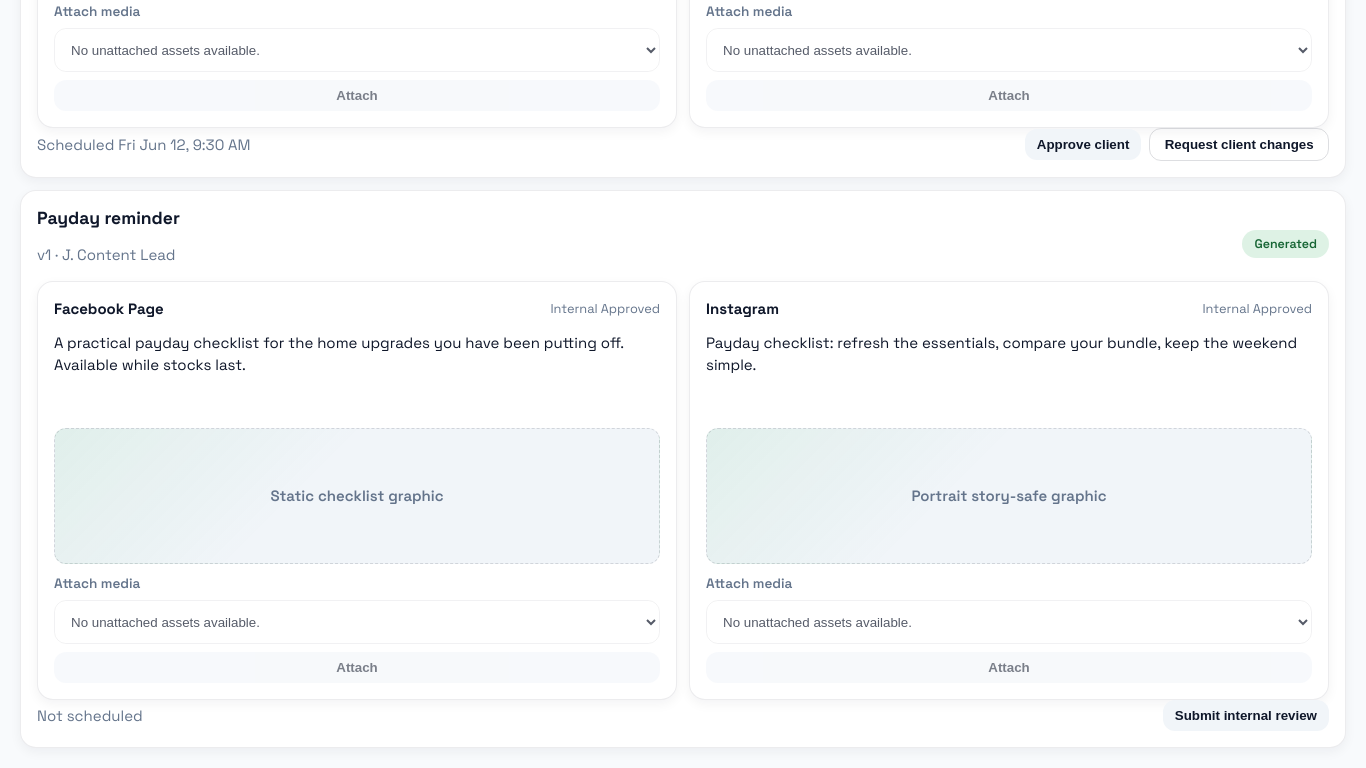
Test: ContentOpsPage › submits a generated draft for internal review
This screenshot has width=1366, height=768.
(page scrolled)
Click the button "Submit internal review". click: (1246, 716)
box: x1=1163 y1=700 x2=1329 y2=731
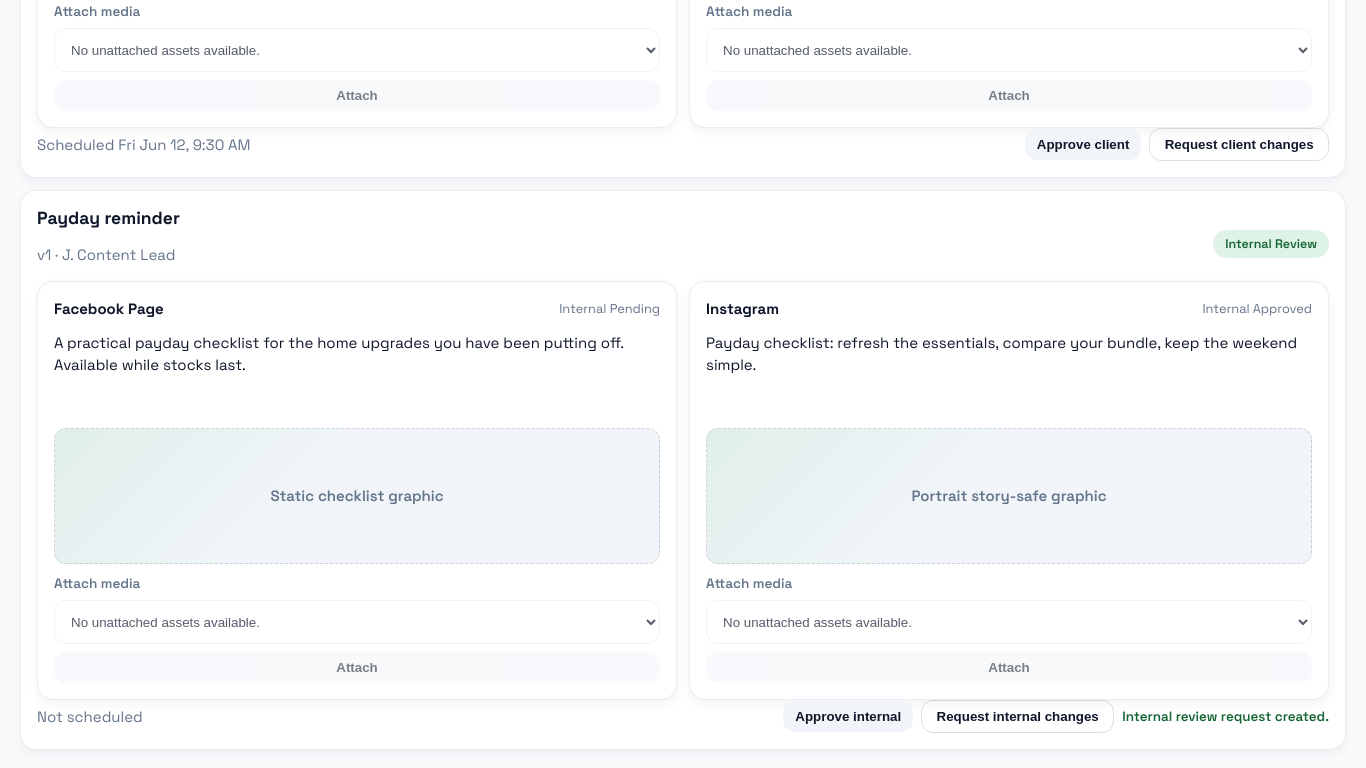
Expected: the text "Internal review request created." is shown, x1=1122 y1=706 x2=1329 y2=728
Expected: the text "Internal Review" is shown, x1=1213 y1=230 x2=1329 y2=258
Expected: the text "Internal Pending" is shown, x1=559 y1=298 x2=660 y2=320
